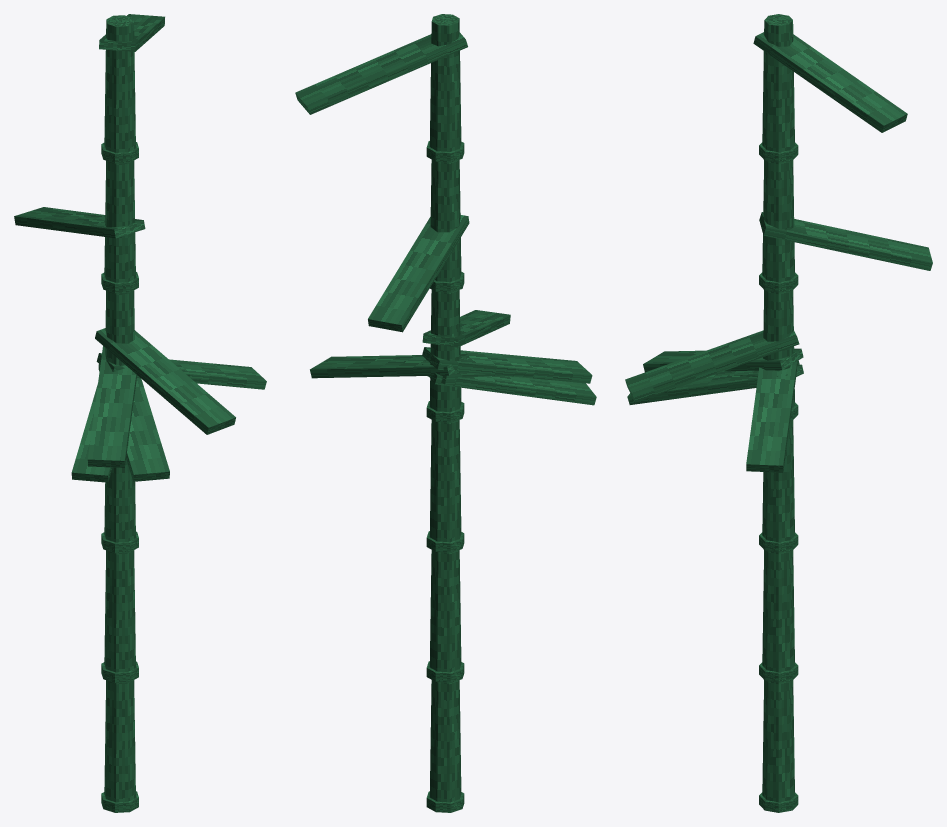
The model's file is bamboo_61.glb.
3 renders of one model, left to right at view 1: azimuth 30°, elevation 25°; view 2: azimuth 150°, elevation 25°; view 3: azimuth 270°, elevation 25°, orthographic.
Parts seen in each view (by area): view 1: Leaf.002, Leaf.005, Stem.005, Stem.001, Stem, Stem.004, Leaf.003, Leaf.006, Stem.002, Leaf.001, Stem.003, Leaf.004 (+6 smaller); view 2: Leaf.006, Leaf, Stem.005, Stem, Stem.001, Stem.002, Leaf.005, Leaf.001, Stem.004, Leaf.004, Stem.003, Leaf.002; view 3: Leaf, Leaf.002, Leaf.001, Stem, Stem.001, Stem.005, Leaf.006, Stem.004, Stem.002, Leaf.003, Stem.003, Leaf.005.
Part boxes in pixels (x1=…): Leaf.002: x1=95, y1=328, x2=235, y2=434; Leaf.005: x1=87, y1=346, x2=137, y2=467; Stem.005: x1=104, y1=15, x2=135, y2=152; Stem.001: x1=104, y1=550, x2=135, y2=672; Stem: x1=104, y1=680, x2=135, y2=802; Stem.004: x1=104, y1=160, x2=135, y2=282; Leaf.003: x1=98, y1=364, x2=169, y2=481; Leaf.006: x1=14, y1=207, x2=145, y2=238; Stem.002: x1=104, y1=458, x2=135, y2=542; Leaf.001: x1=96, y1=353, x2=266, y2=389; Stem.003: x1=105, y1=290, x2=134, y2=365; Leaf.004: x1=71, y1=384, x2=112, y2=482; Leaf.006: x1=368, y1=215, x2=469, y2=332; Leaf: x1=295, y1=32, x2=467, y2=114; Stem.005: x1=429, y1=14, x2=461, y2=151; Stem: x1=429, y1=680, x2=461, y2=802; Stem.001: x1=429, y1=550, x2=461, y2=672; Stem.002: x1=429, y1=420, x2=461, y2=542; Leaf.005: x1=422, y1=347, x2=592, y2=383; Leaf.001: x1=310, y1=354, x2=469, y2=378; Stem.004: x1=430, y1=160, x2=461, y2=281; Leaf.004: x1=425, y1=361, x2=596, y2=405; Stem.003: x1=429, y1=290, x2=461, y2=411; Leaf.002: x1=422, y1=310, x2=510, y2=347; Leaf: x1=753, y1=32, x2=907, y2=132; Leaf.002: x1=625, y1=330, x2=799, y2=402; Leaf.001: x1=746, y1=361, x2=798, y2=472; Stem: x1=762, y1=680, x2=794, y2=802; Stem.001: x1=762, y1=550, x2=794, y2=672; Stem.005: x1=762, y1=14, x2=794, y2=152; Leaf.006: x1=759, y1=212, x2=932, y2=270; Stem.004: x1=762, y1=160, x2=794, y2=282; Stem.002: x1=762, y1=420, x2=794, y2=542; Leaf.003: x1=627, y1=360, x2=799, y2=404; Stem.003: x1=763, y1=290, x2=794, y2=407; Leaf.005: x1=643, y1=348, x2=803, y2=372.
Bounding box in the file's own units: 1.31 × 4.21 × 1.5.
Materials: 1 (1 with a texture image).
